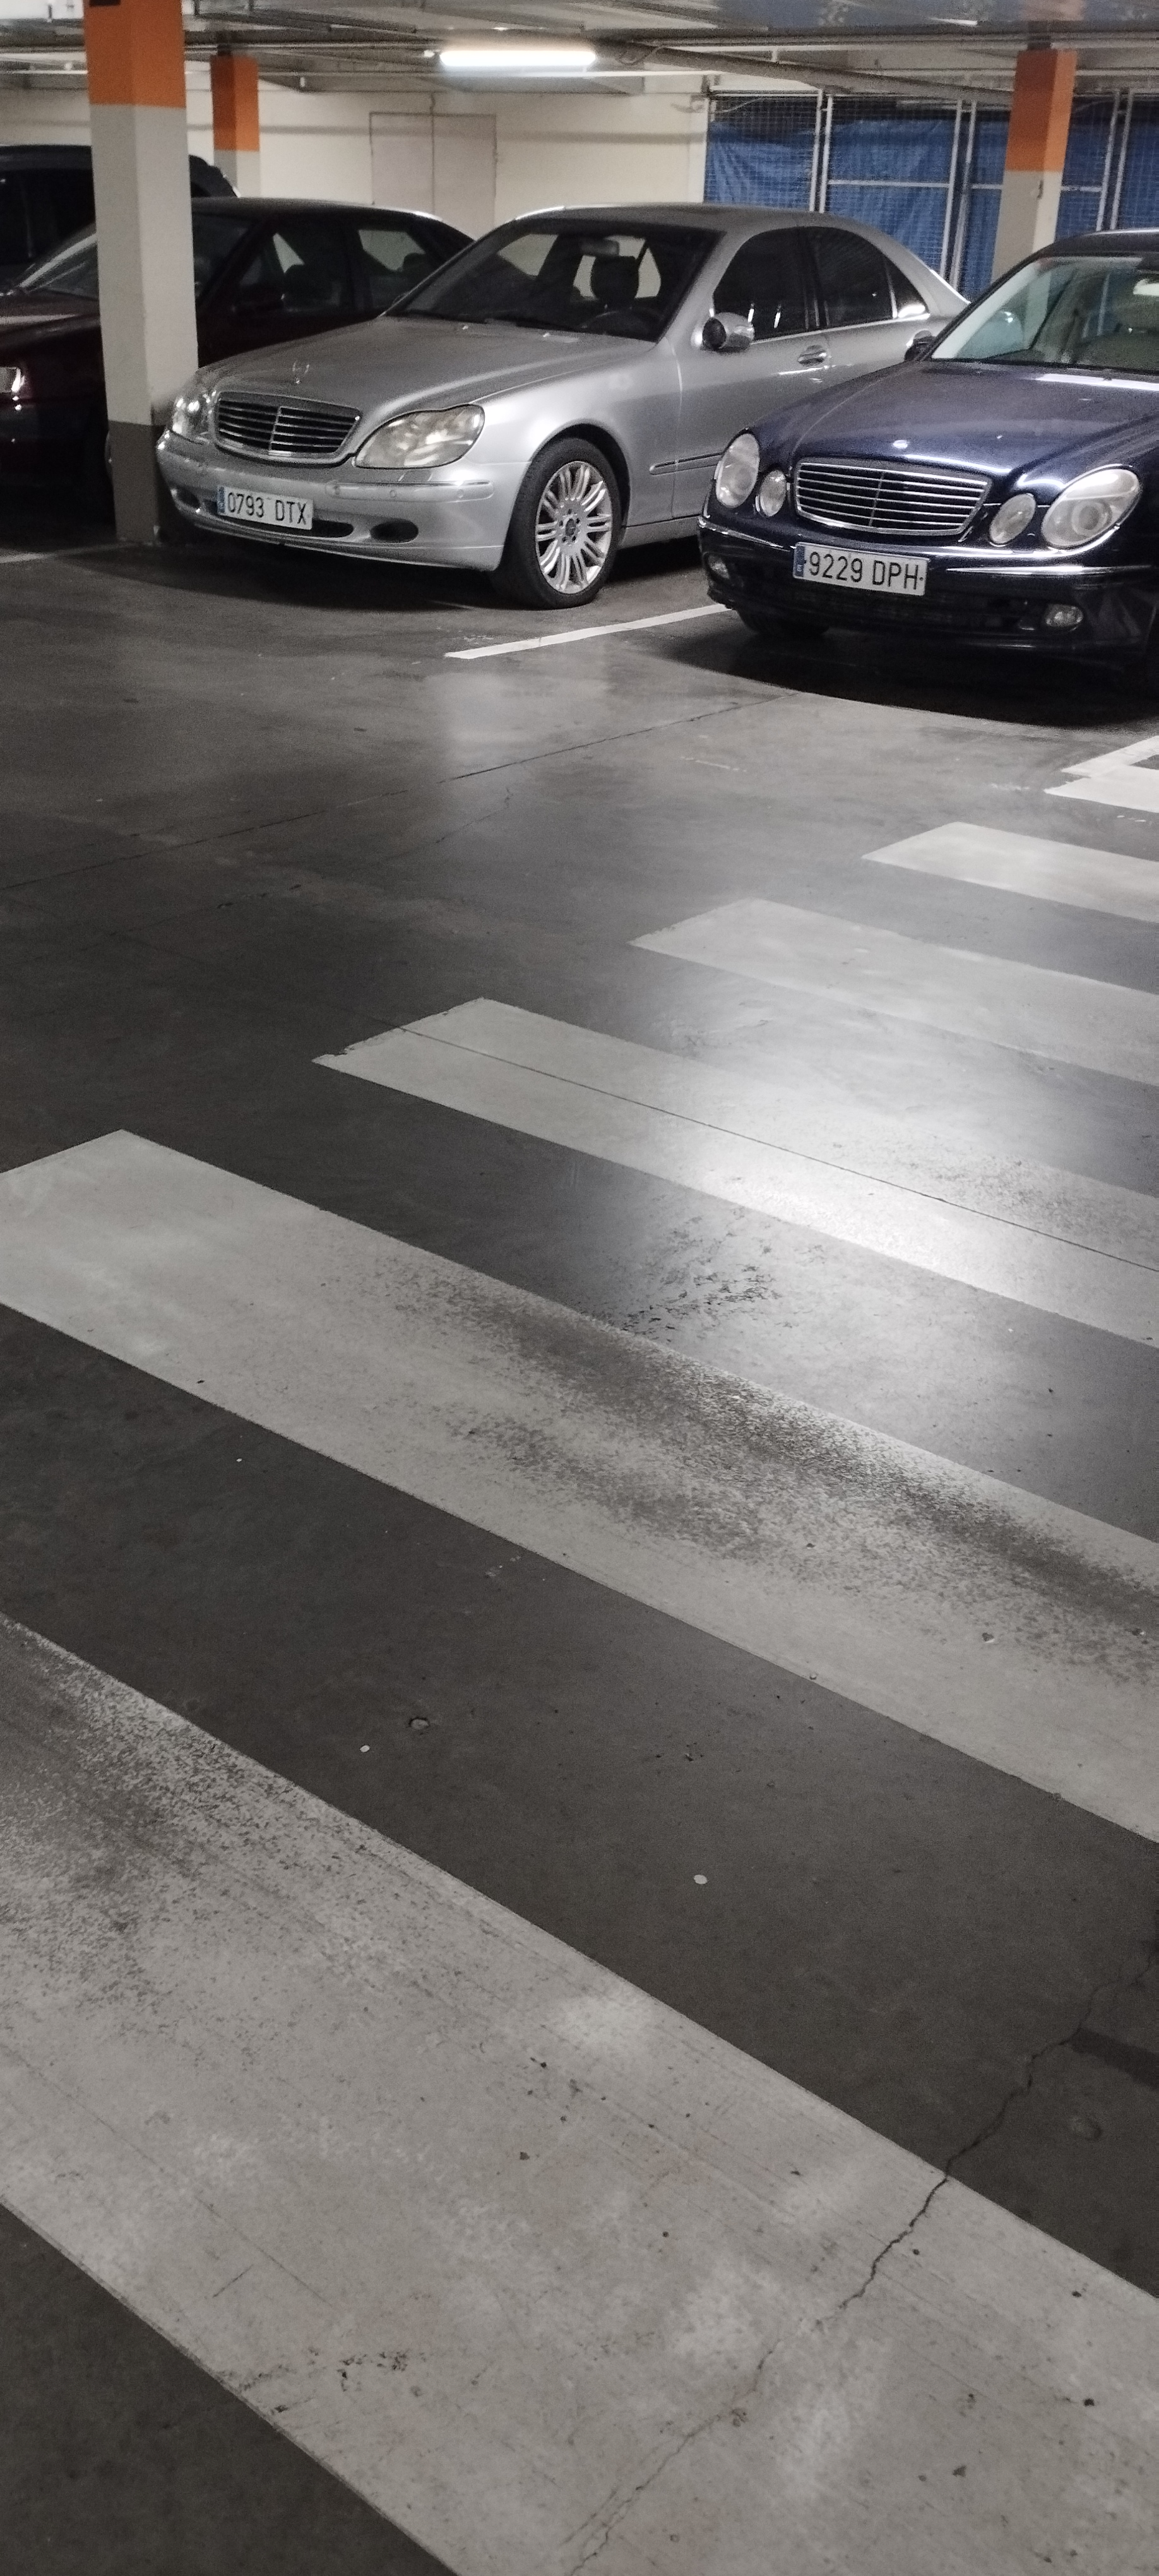Car: (172, 186, 782, 564), (704, 240, 1158, 700)
Plate: (795, 536, 927, 584), (221, 477, 319, 511)
